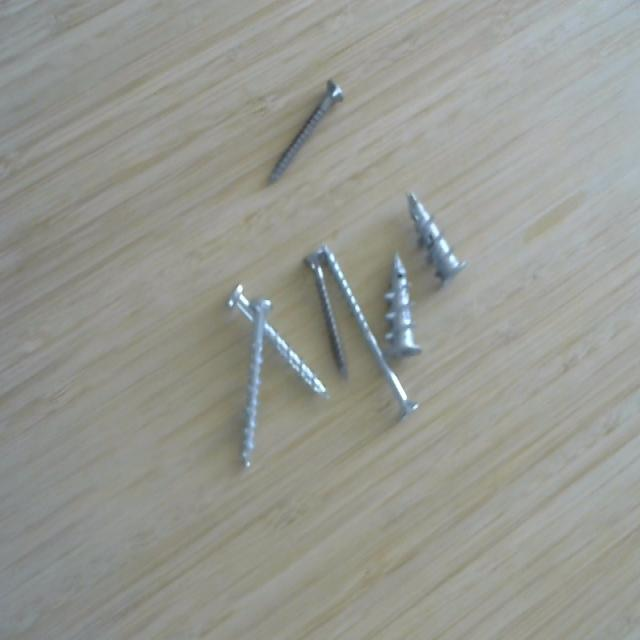Black screw: (262, 70, 347, 190), (304, 245, 351, 386)
Long screw: (321, 241, 422, 427)
Medium screw: (223, 280, 316, 403), (239, 292, 277, 473)
Short screw: (407, 181, 470, 296), (381, 249, 427, 366)
